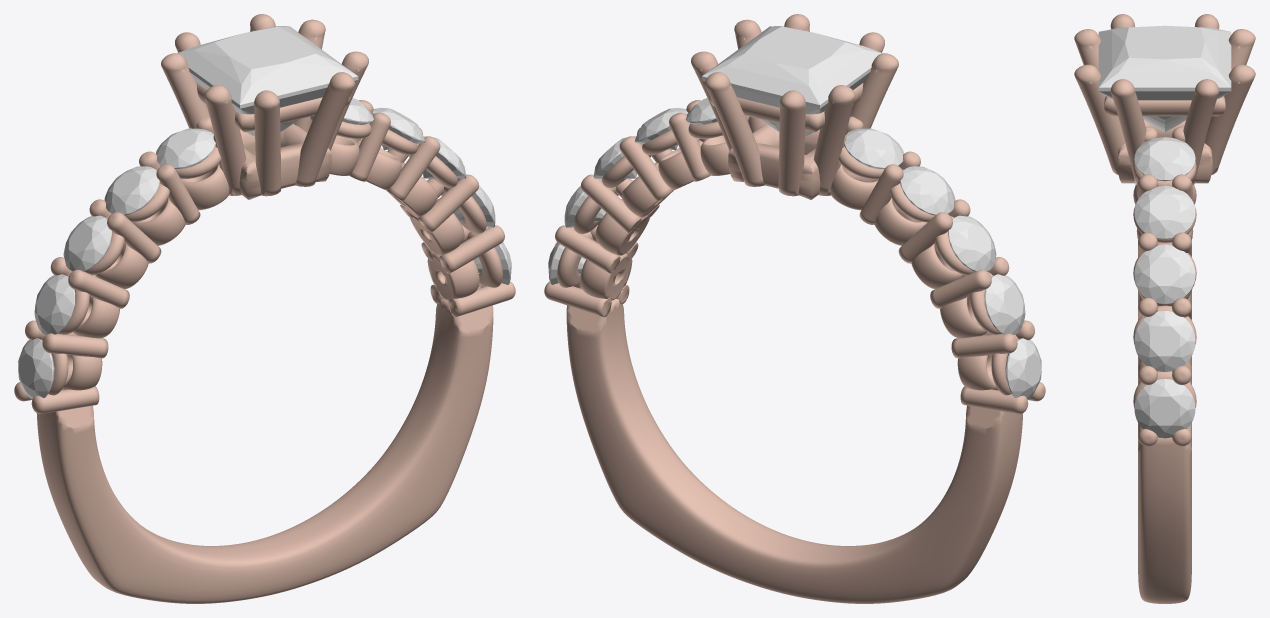
File: diamond-princess-rosegold-8prong-europeanshank-11stone.glb
The picture shows the model from 3 angles, left to right: view 1: azimuth 30°, elevation 25°; view 2: azimuth 150°, elevation 25°; view 3: azimuth 270°, elevation 25°; orthographic projection. The views are drawn at different scales.
Visible parts, largest first — view 1: metal, stone, side.002, side.003, side.001, side.004, side, side.006; view 2: metal, stone, side.002, side.003, side.001, side.004, side, side.006; view 3: metal, stone, side.008, side.007, side.009, side.006, side.005.
Boxes of the visible parts, x1,y1,x2,y2 form: metal: (14,14,515,603); stone: (177,26,358,136); side.002: (63,215,111,271); side.003: (104,166,159,215); side.001: (34,274,75,334); side.004: (156,128,215,169); side: (18,338,54,399); side.006: (371,107,425,150); metal: (544,14,1045,603); stone: (701,26,882,136); side.002: (948,215,996,271); side.003: (900,166,955,215); side.001: (984,274,1025,334); side.004: (844,128,903,169); side: (1005,338,1041,399); side.006: (634,108,688,150); metal: (1074,14,1255,603); stone: (1098,25,1231,131); side.008: (1134,311,1195,371); side.007: (1134,245,1195,303); side.009: (1134,378,1195,438); side.006: (1134,185,1195,239); side.005: (1134,137,1195,181).
Size of the model in its own units: 22.05 by 23.65 by 7.42.
